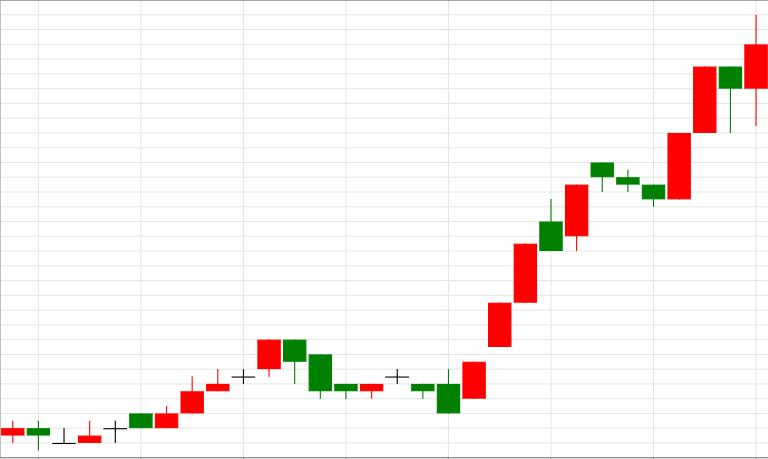bearish_engulfing_fall: (79, 339, 306, 444)
three_white_soldiers_rise: (385, 243, 537, 413)
